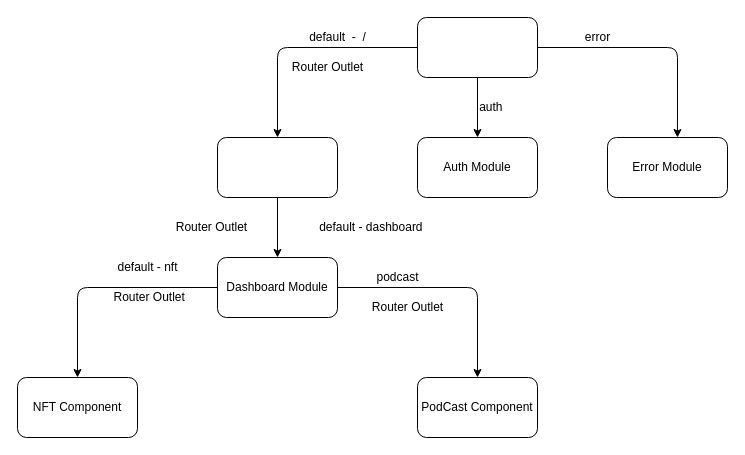
This 745x455 diagram has some shape labels left out. Each missing label, with the centre of its shape:
"App Module" goes at [477,47].
"Layout Module" goes at [277,167].
